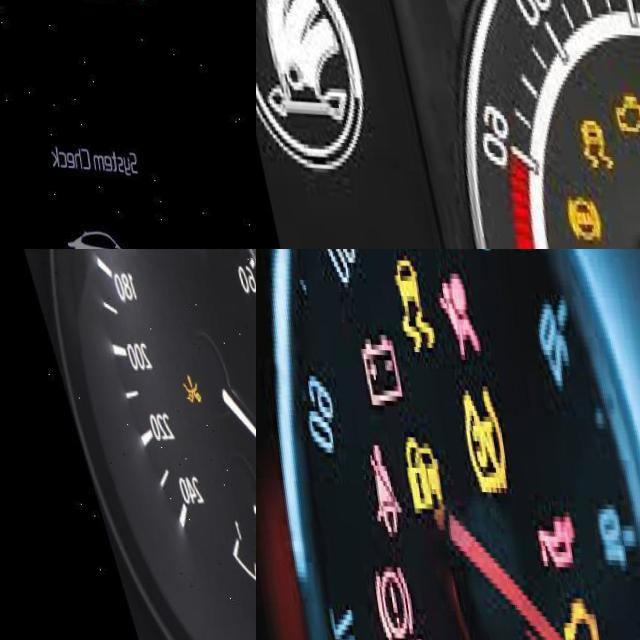Seat Belt: (359, 442, 394, 532)
